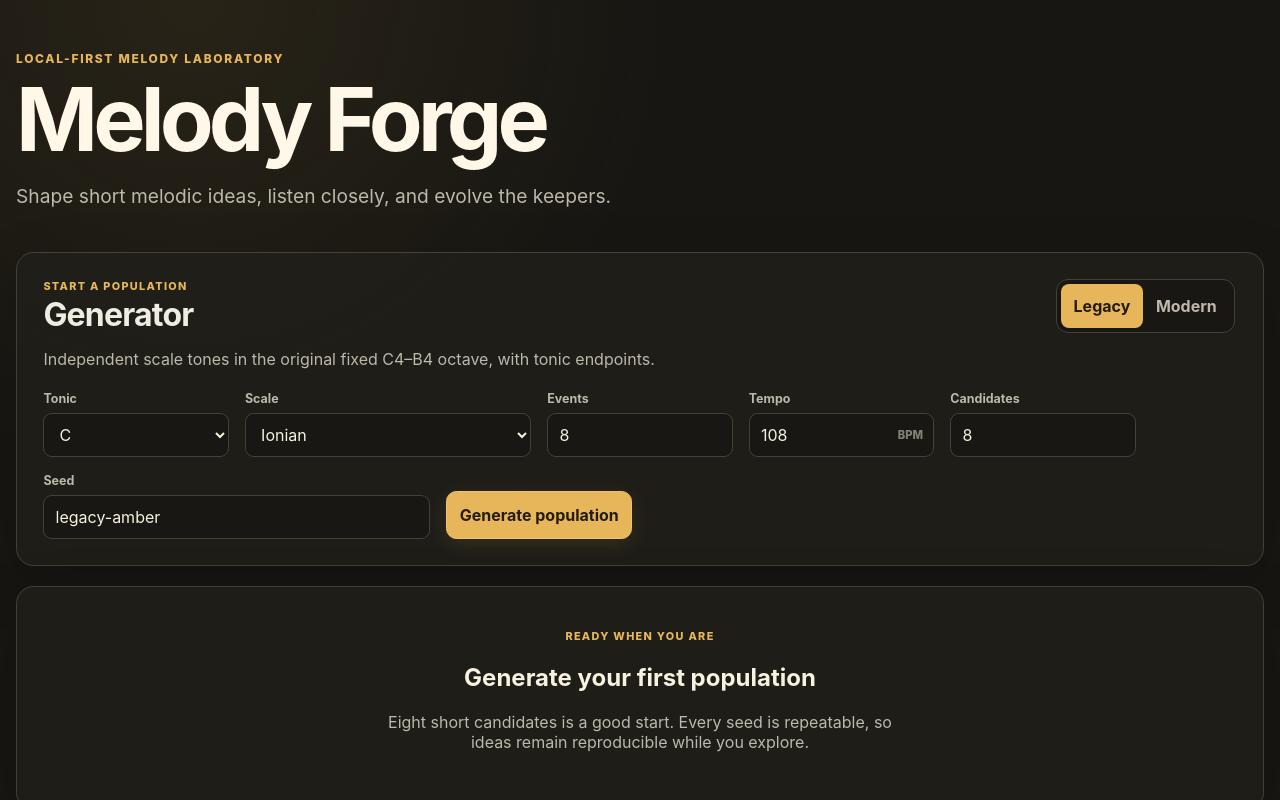
Test: essential browser workspace › does not announce stale playback after Stop wins an initialization race
The width and height of the screenshot is (1280, 800).
Click the button "Generate population".
click(539, 515)  # box [446, 491, 632, 539]
(page scrolled)
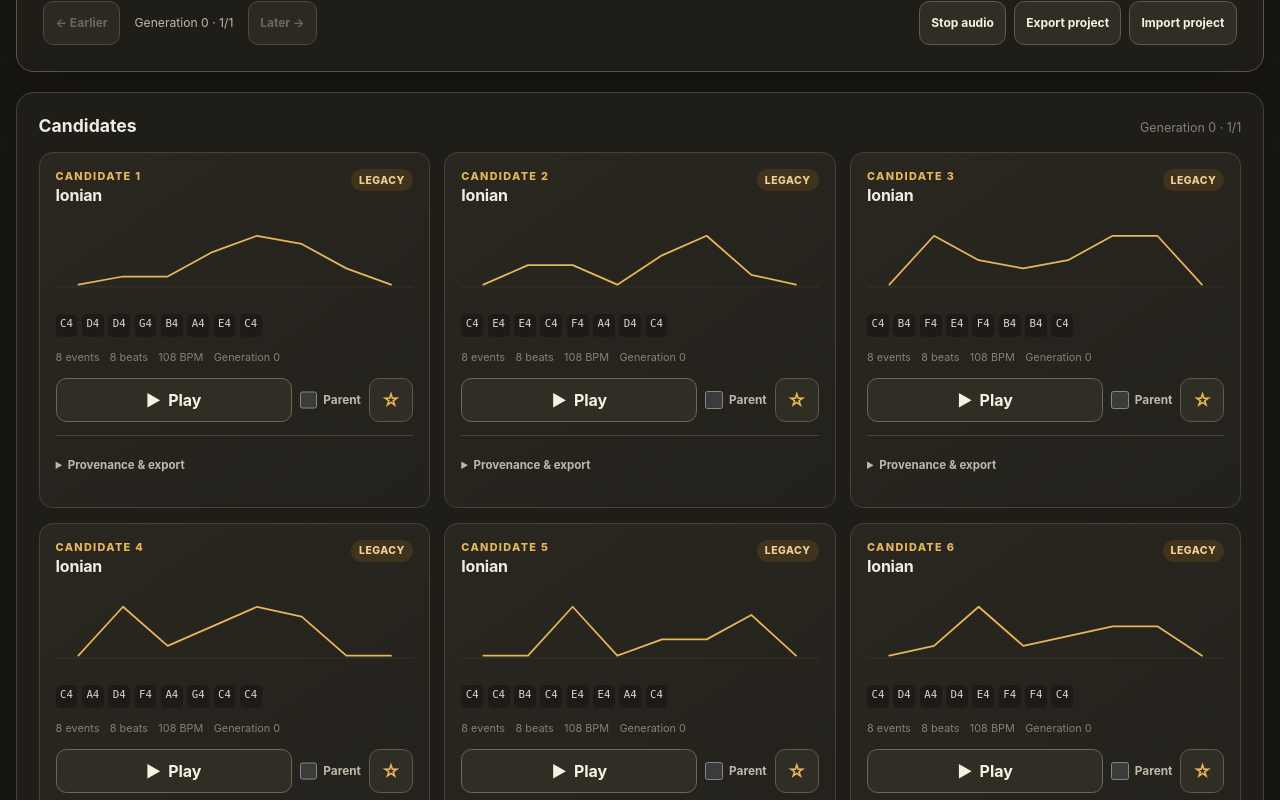
Click the button with aria-label "Play candidate 1".
click(174, 400)  # box [56, 378, 292, 422]
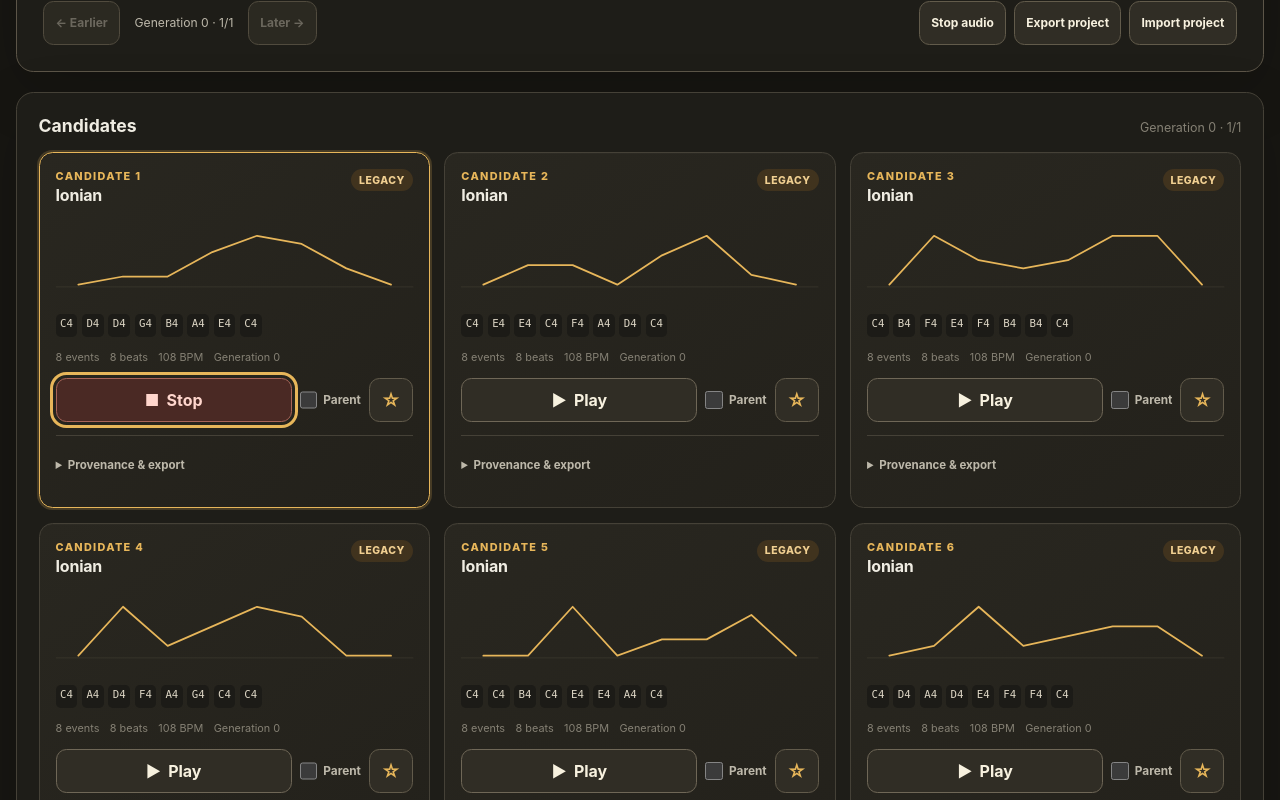
Click the button with aria-label "Stop candidate 1".
click(174, 400)  # box [56, 378, 292, 422]
(page scrolled)
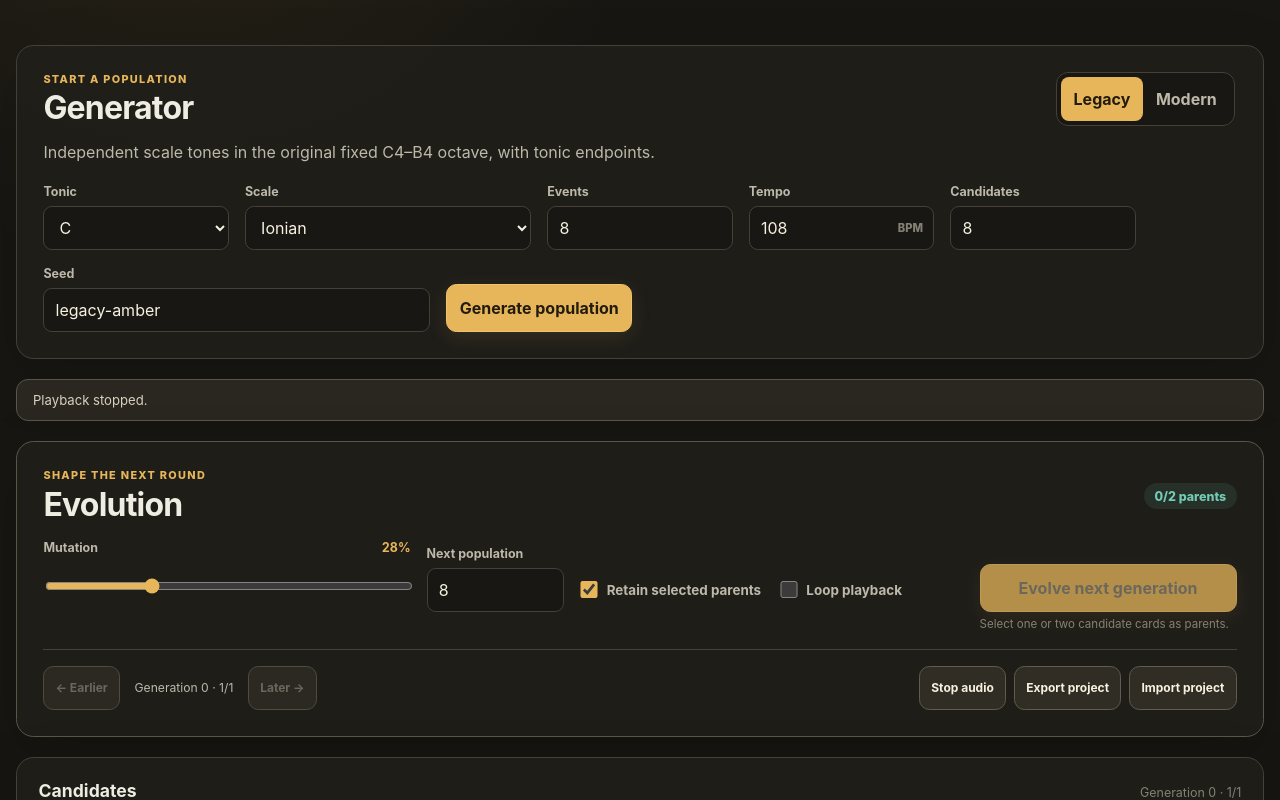
Check: the text "Playback stopped." is shown, box [16, 379, 1264, 421]
